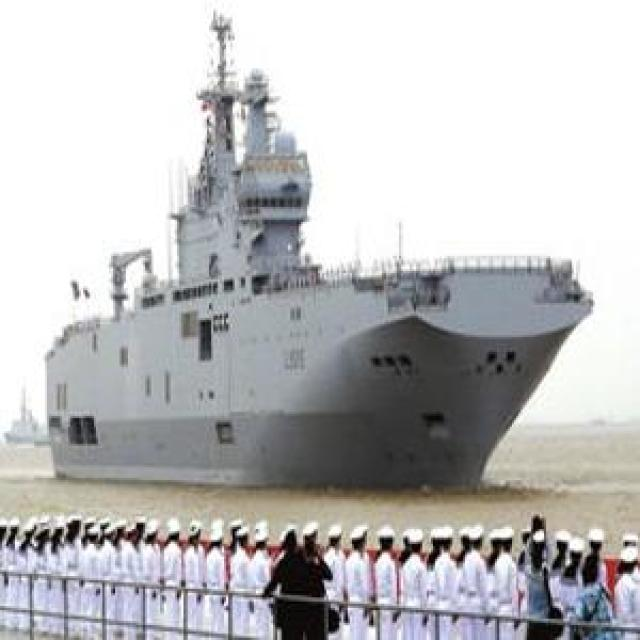navalvessels: (36, 56, 566, 479)
